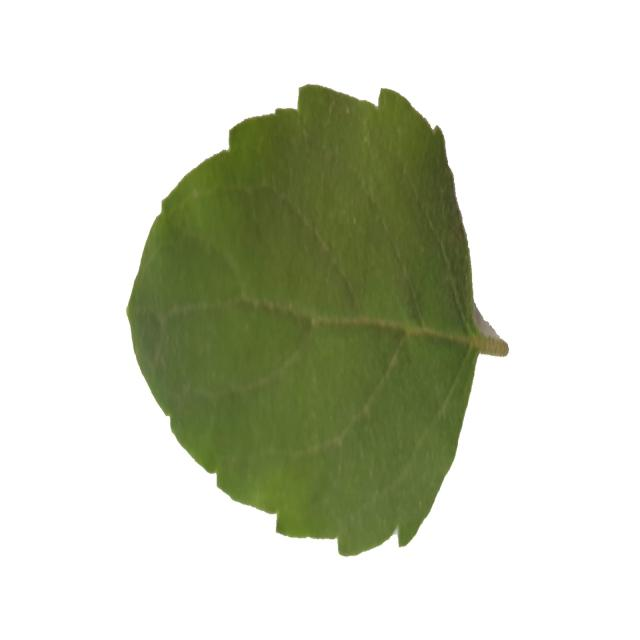tulsi: (126, 79, 510, 554)
